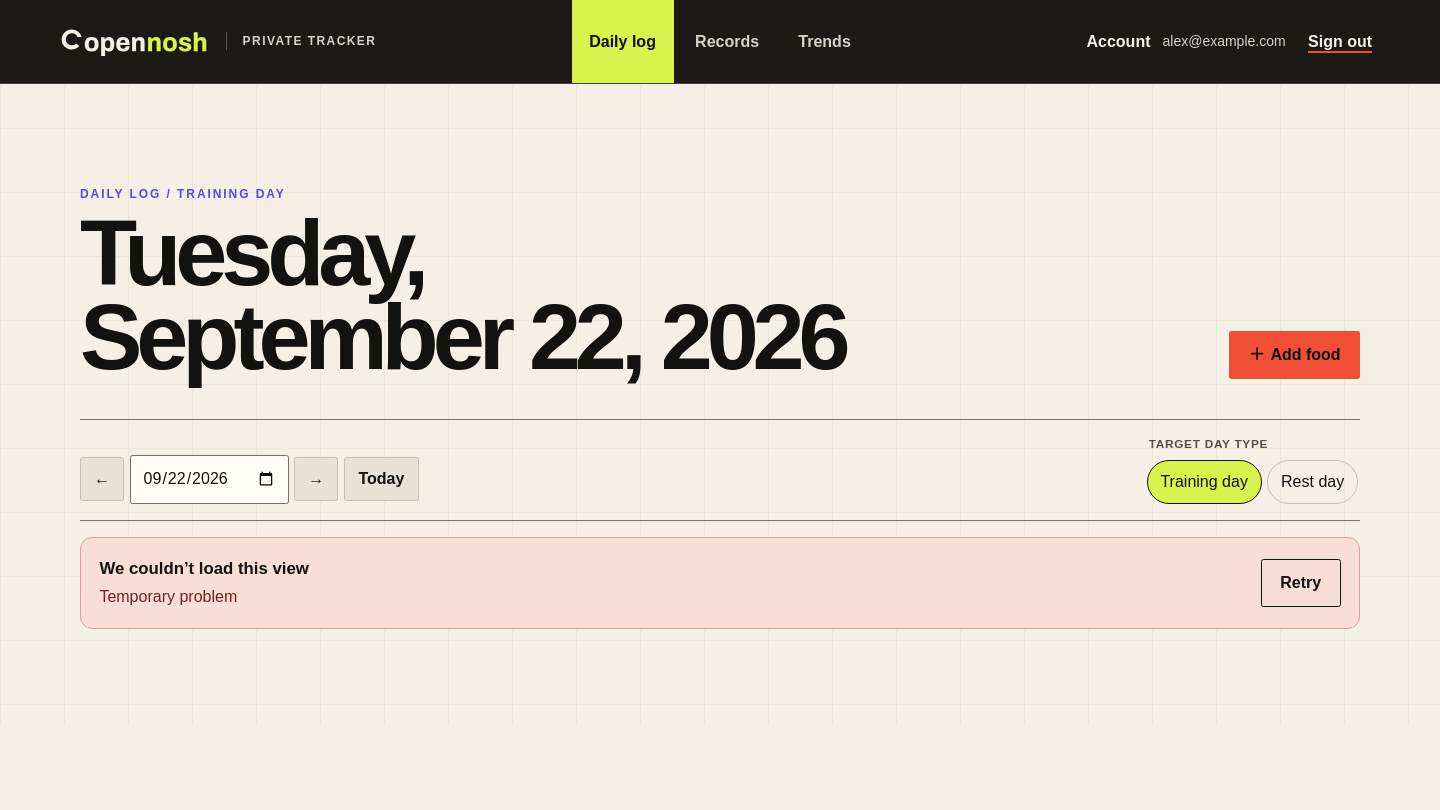
Test: daily nutrition log › lets the user retry a temporary API failure
Expected: the heading "We couldn’t load this view" is shown, left=99, top=556, right=309, bottom=581
Click the button "Retry" at coordinates (1301, 583), box left=1261, top=559, right=1341, bottom=607
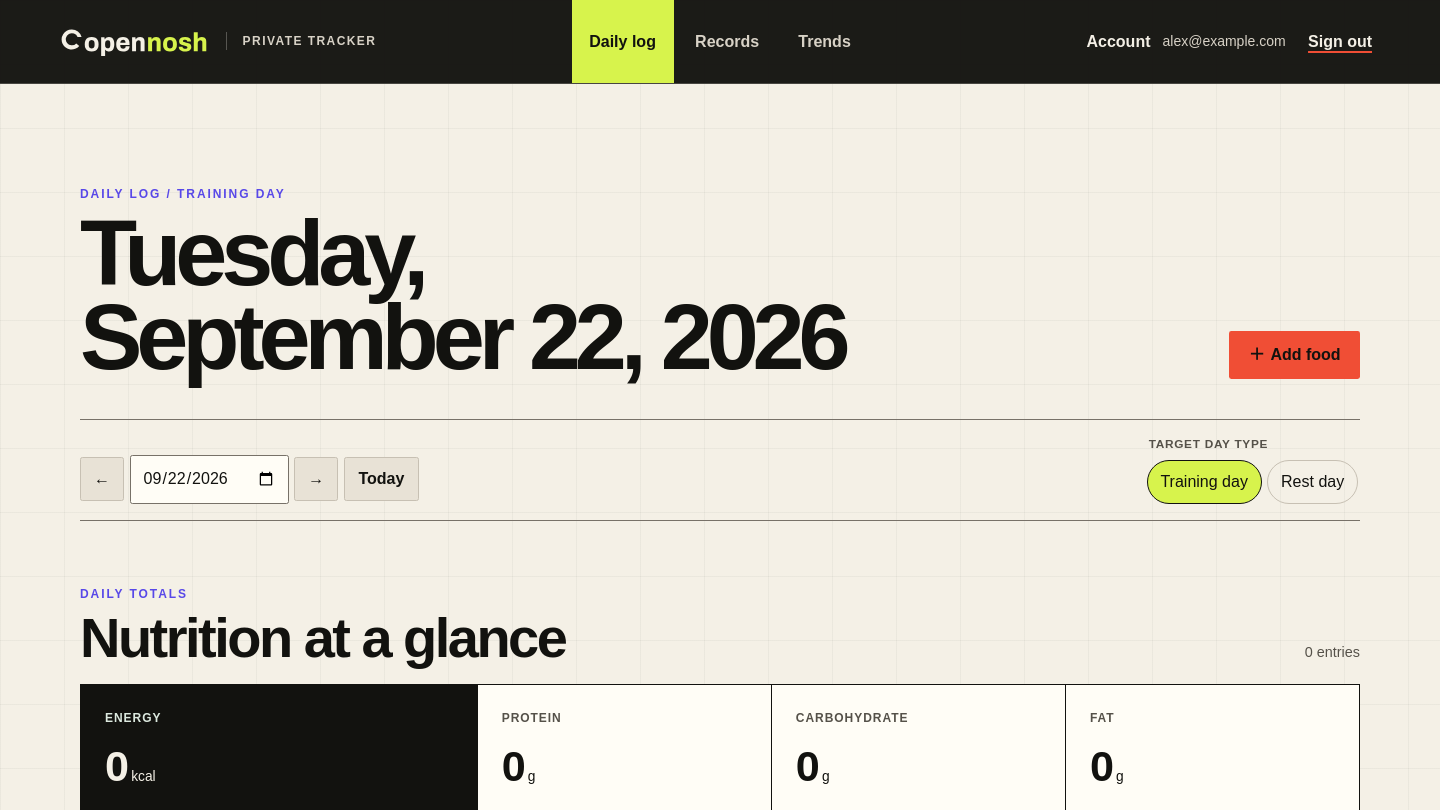
Now the heading "Nutrition at a glance" is shown, box left=80, top=611, right=565, bottom=664
